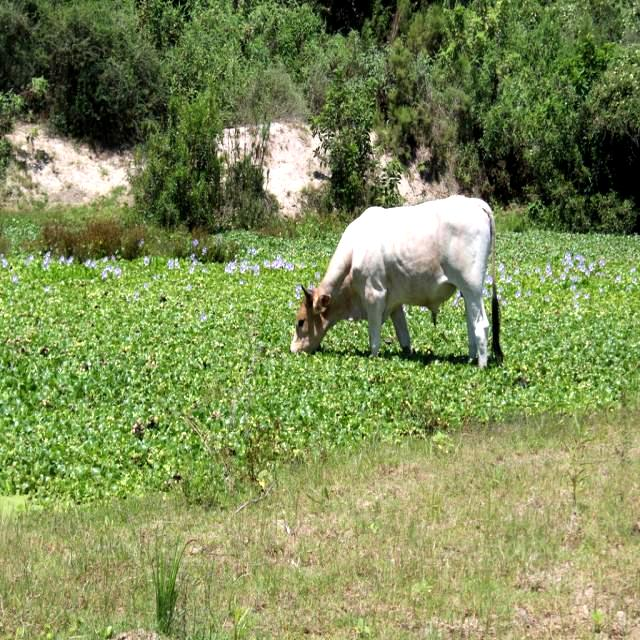COW: (290, 195, 494, 368)
